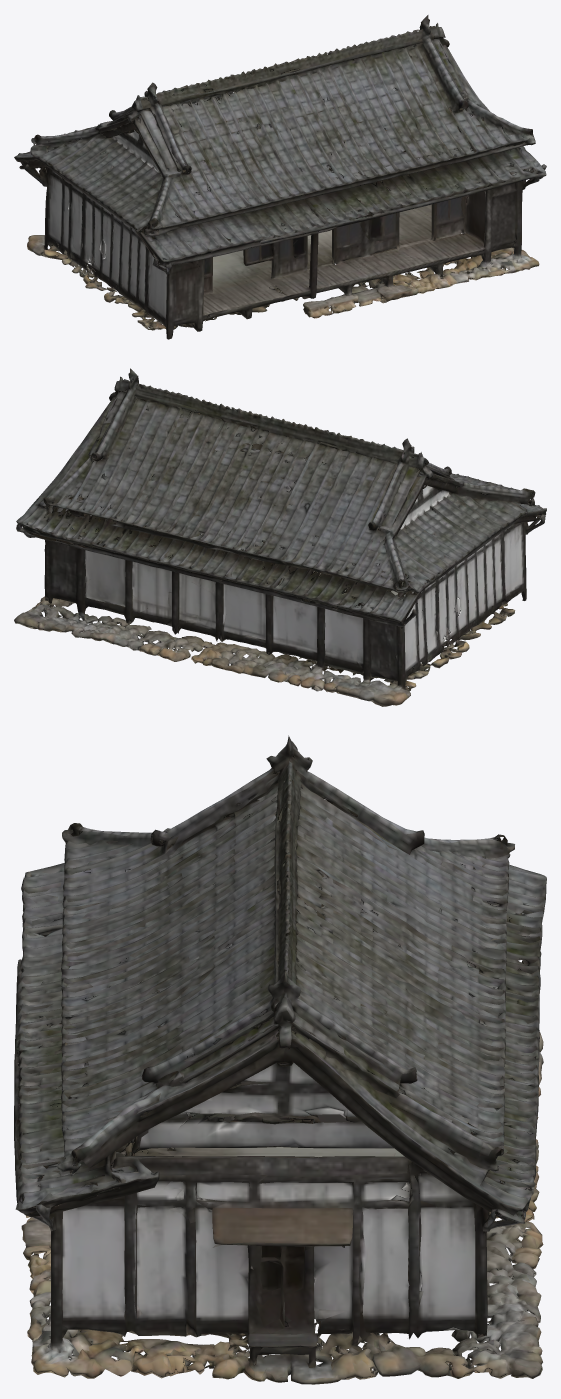
File: farmhouse_a.0.glb
The picture shows the model from 3 angles, top to bottom: view 1: azimuth 30°, elevation 25°; view 2: azimuth 150°, elevation 25°; view 3: azimuth 270°, elevation 25°; orthographic projection. The views are drawn at different scales.
Parts seen in each view (by area): view 1: geometry_0; view 2: geometry_0; view 3: geometry_0.
Boxes of the visible parts, left/top/right/bottom form: geometry_0: left=14, top=15, right=546, bottom=339; geometry_0: left=14, top=368, right=546, bottom=706; geometry_0: left=14, top=735, right=546, bottom=1384.
Size of the model in its own units: 0.9957 by 0.5126 by 0.6615.
Materials: 1 (1 with a texture image).
